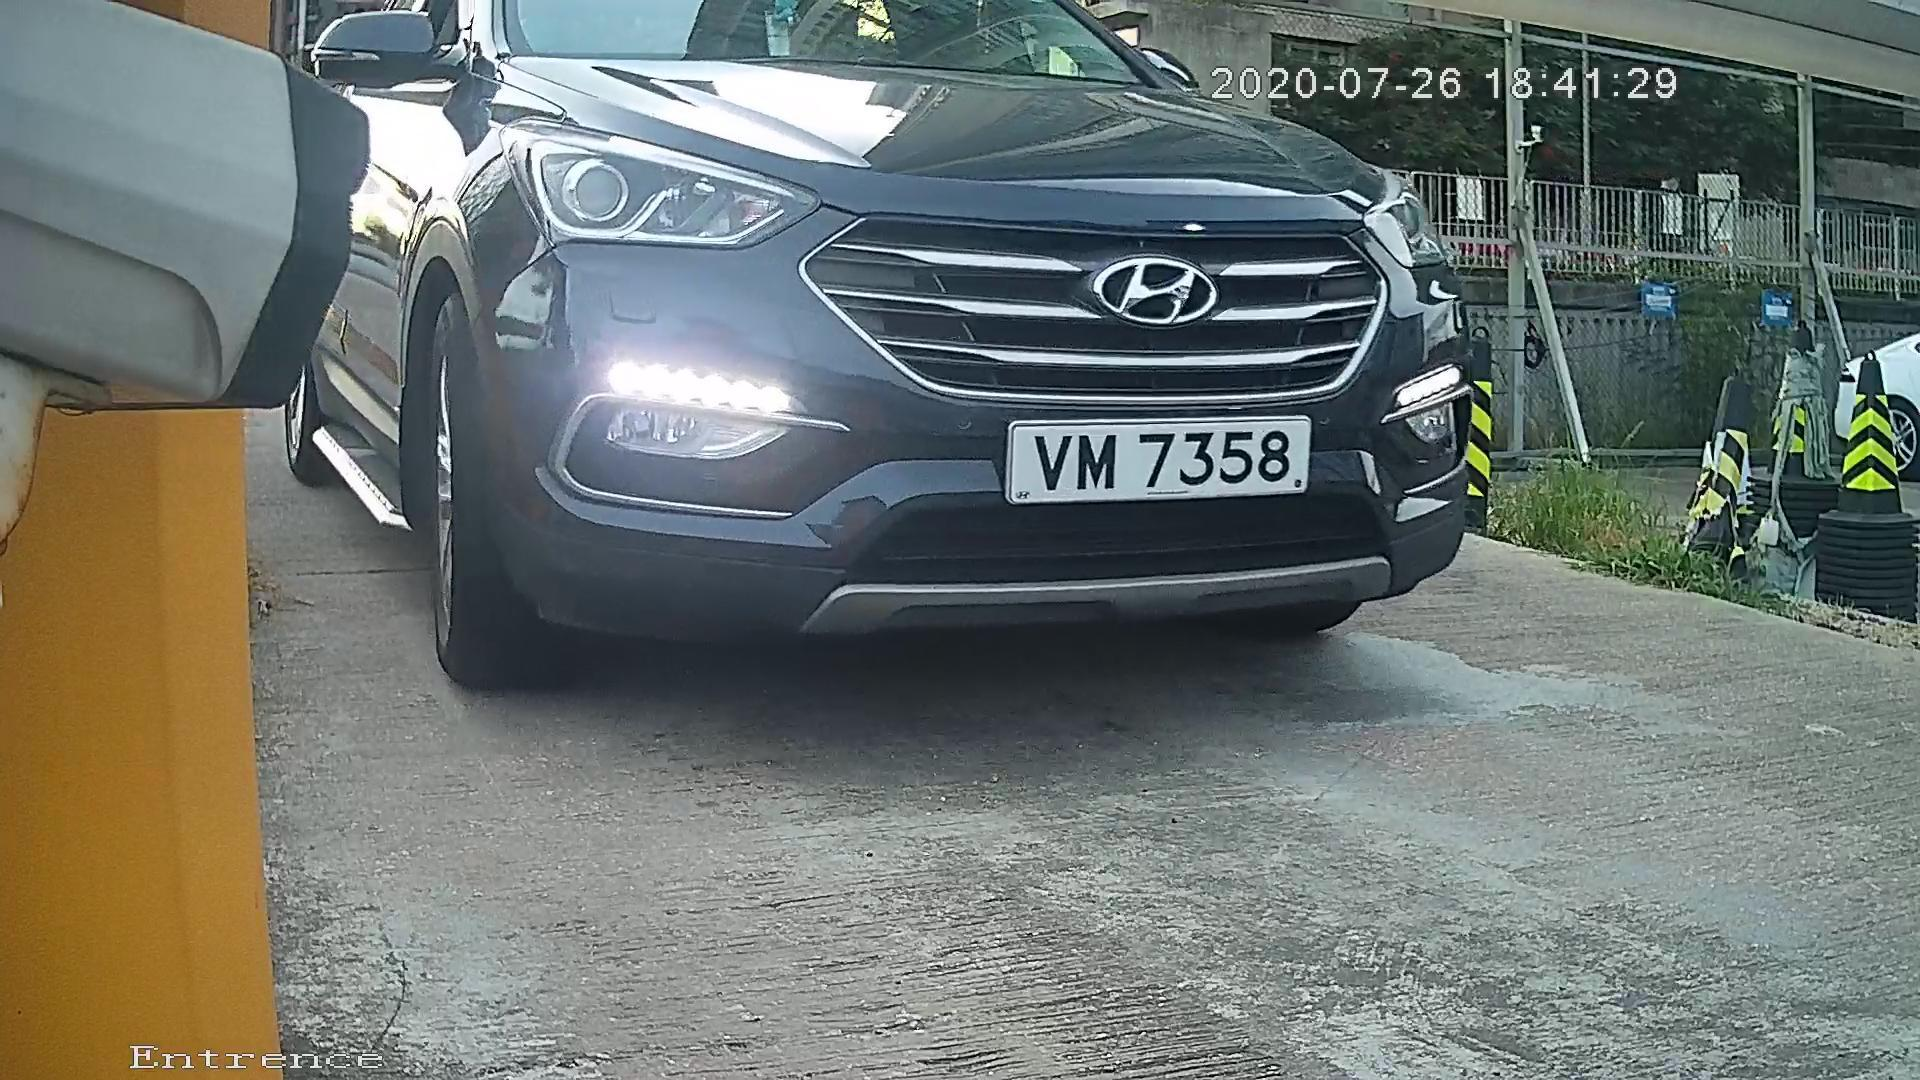License Plate: (995, 406, 1329, 507)
